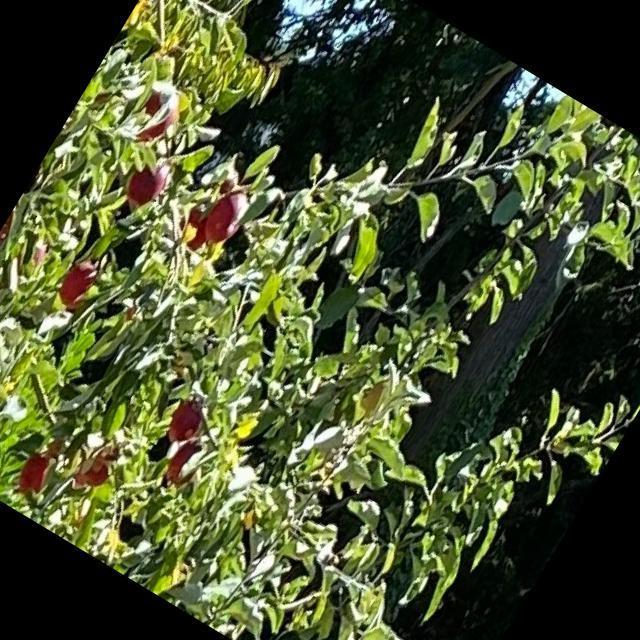Rotten Apple: (129, 80, 187, 146), (200, 182, 254, 248), (52, 252, 104, 312), (171, 197, 222, 256), (121, 153, 172, 210), (162, 395, 208, 450), (163, 436, 209, 490), (74, 440, 121, 492), (14, 444, 59, 496)
